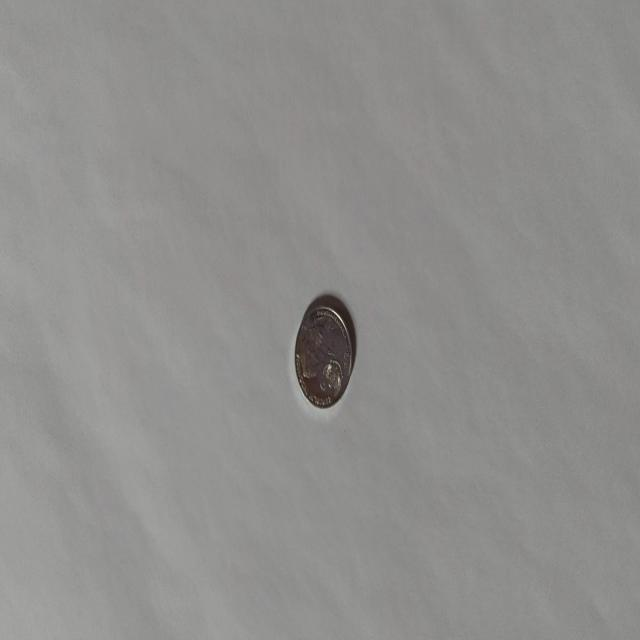dua ratus rupiah: (293, 298, 353, 409)
